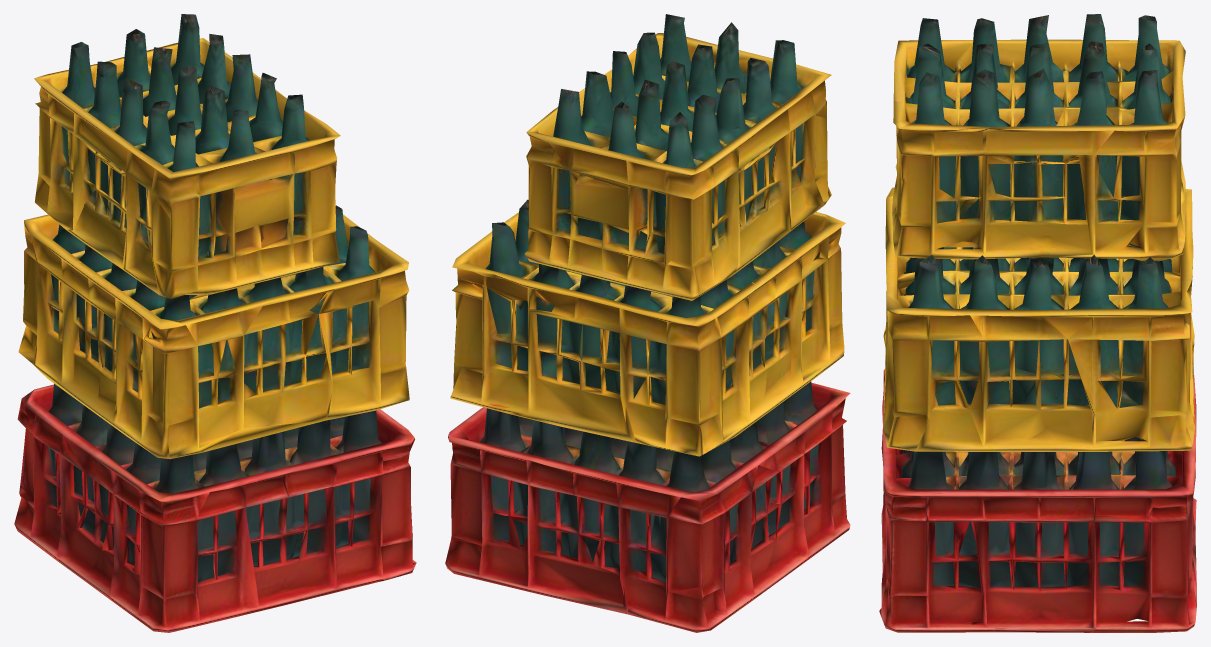
The model's file is bottlecrates.glb.
The picture shows the model from 3 angles, left to right: view 1: azimuth 30°, elevation 25°; view 2: azimuth 150°, elevation 25°; view 3: azimuth 270°, elevation 25°; orthographic projection. The views are drawn at different scales.
Parts seen in each view (by area): view 1: tripo_node_00fb3009-ba51-4c06-8a7c-2f5b41cdb337; view 2: tripo_node_00fb3009-ba51-4c06-8a7c-2f5b41cdb337; view 3: tripo_node_00fb3009-ba51-4c06-8a7c-2f5b41cdb337.
Boxes of the visible parts, x1,y1,x2,y2 form: tripo_node_00fb3009-ba51-4c06-8a7c-2f5b41cdb337: (14, 14, 416, 632); tripo_node_00fb3009-ba51-4c06-8a7c-2f5b41cdb337: (445, 14, 850, 632); tripo_node_00fb3009-ba51-4c06-8a7c-2f5b41cdb337: (879, 14, 1196, 632).
Bounding box in the file's own units: 0.5107 × 0.9 × 0.5096.
1 material, 1 textured.
